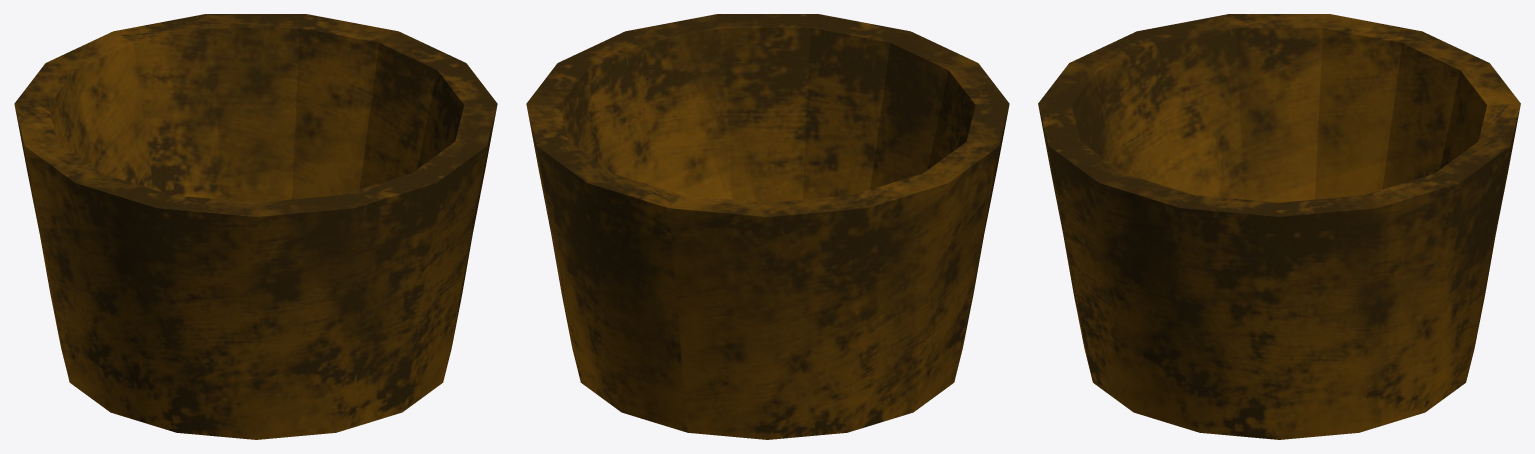
Rendered from Vase2.fbx.
3 views of the same model, side by side, from view 1: azimuth 30°, elevation 25°; view 2: azimuth 150°, elevation 25°; view 3: azimuth 270°, elevation 25° (orthographic).
Parts seen in each view (by area): view 1: Vase2; view 2: Vase2; view 3: Vase2.
Part boxes in pixels (x1,y1,x2,y2): Vase2: (14, 14, 497, 439); Vase2: (526, 14, 1009, 439); Vase2: (1038, 14, 1520, 439).
Bounding box in the file's own units: 0.0188 × 0.0105 × 0.0189.
